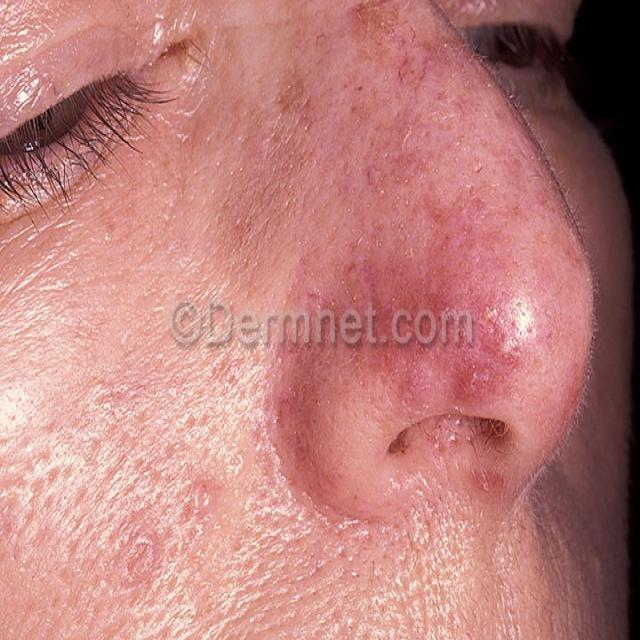acne: (333, 233, 379, 319), (452, 340, 520, 396), (169, 474, 233, 521), (576, 524, 618, 582), (94, 209, 144, 249)
